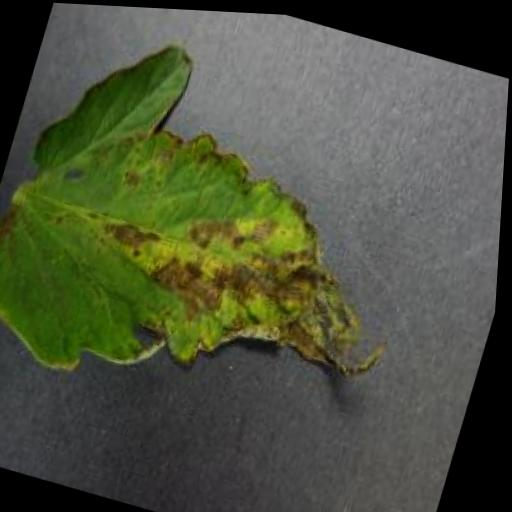Bacterial Spot: (0, 3, 470, 473)
